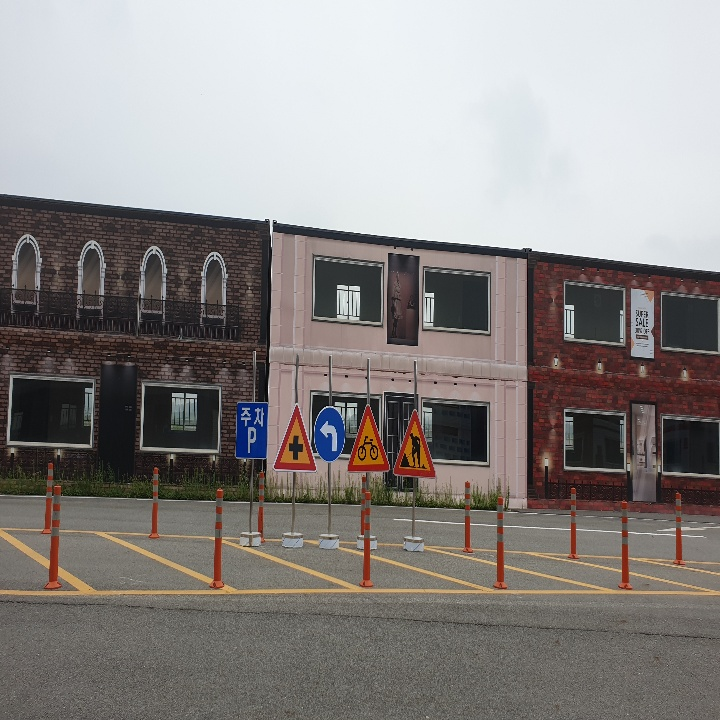bicycle: (348, 406, 391, 472)
const: (398, 429, 430, 472)
inter: (285, 425, 307, 465)
left: (318, 419, 340, 455)
parking: (238, 420, 259, 453)
